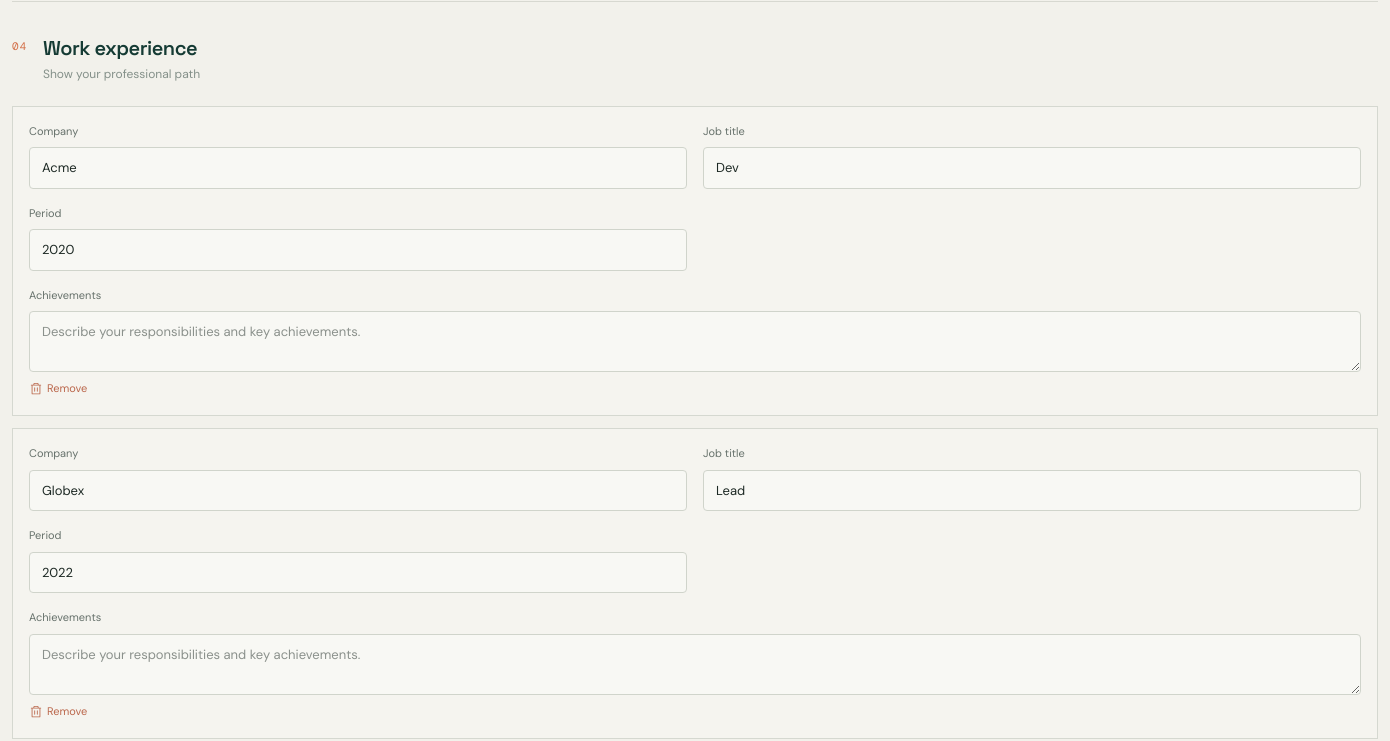
Test: ResumeForm - work experience › removes a workplace entry
The width and height of the screenshot is (1390, 741).
(page scrolled)
Expected: the number of fields showing "Company" is 2, left=29, top=147, right=687, bottom=188; left=29, top=470, right=687, bottom=511
Click the 1st button "Remove".
click(58, 384)  # box left=29, top=372, right=87, bottom=396
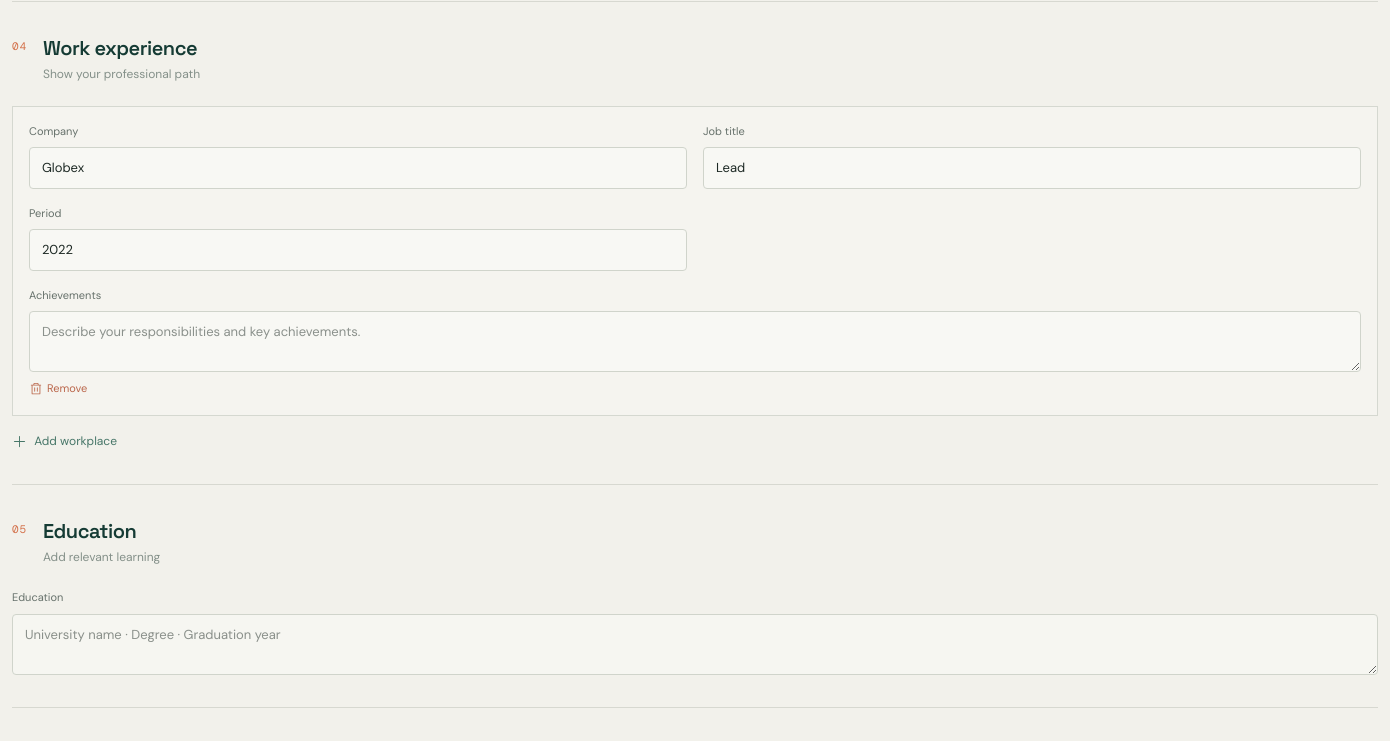
Now the number of fields showing "Company" is 1, box left=29, top=147, right=687, bottom=188
